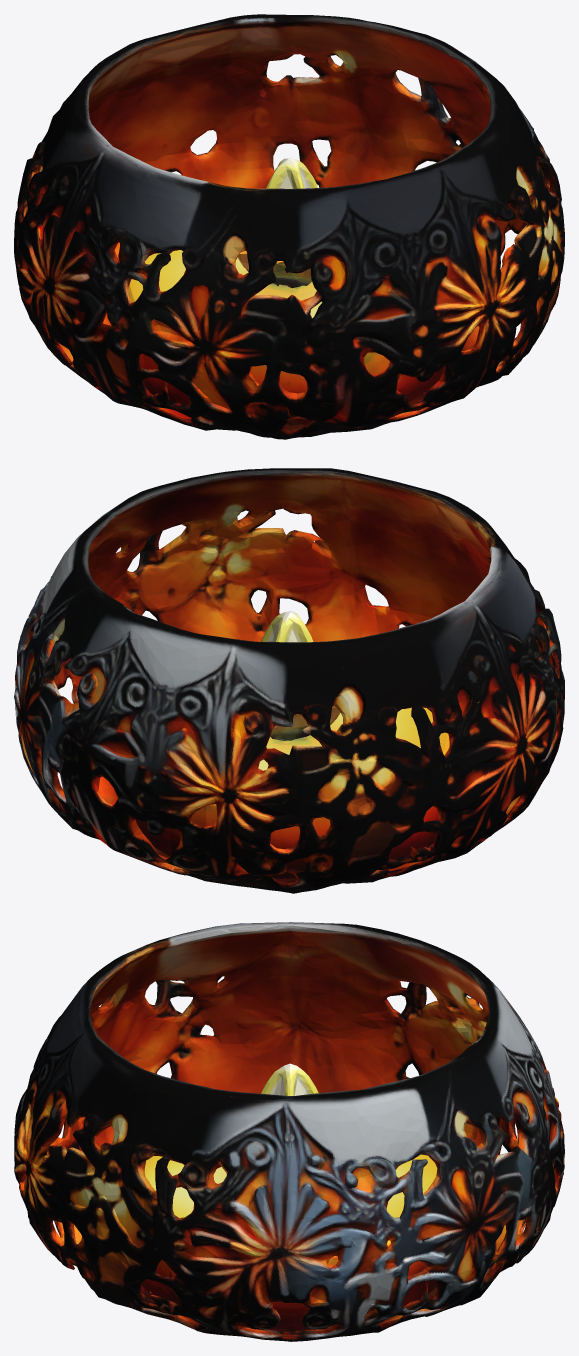
File: ceramic-votive-holder-3d.jpeg.glb
The picture shows the model from 3 angles, top to bottom: view 1: azimuth 30°, elevation 25°; view 2: azimuth 150°, elevation 25°; view 3: azimuth 270°, elevation 25°; orthographic projection.
Visible parts, largest first — view 1: world; view 2: world; view 3: world.
Boxes of the visible parts, x1,y1,x2,y2 form: world: (14, 14, 564, 439); world: (14, 468, 564, 893); world: (14, 922, 564, 1341).
Size of the model in its own units: 0.9862 by 0.5388 by 0.9955.
1 material, 1 textured.
